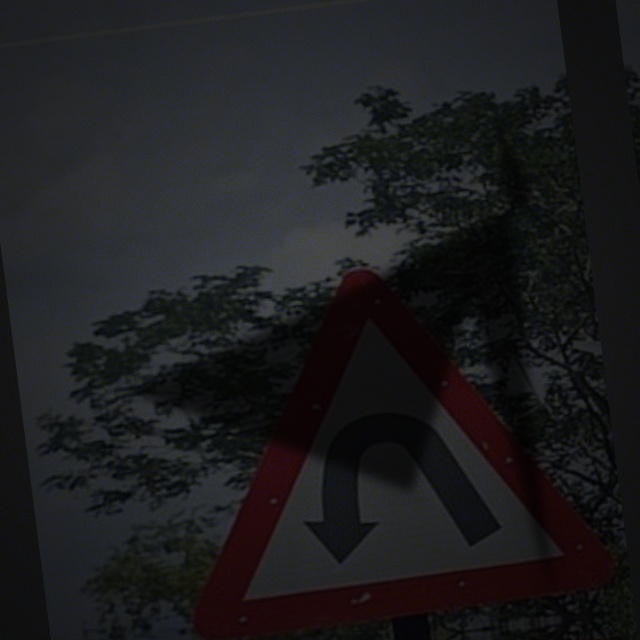Left_Hair_Pin_Bend: (150, 230, 623, 639)
